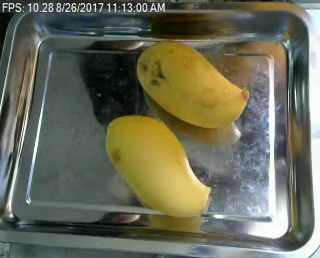Mango: (103, 114, 215, 221), (129, 35, 253, 131)
